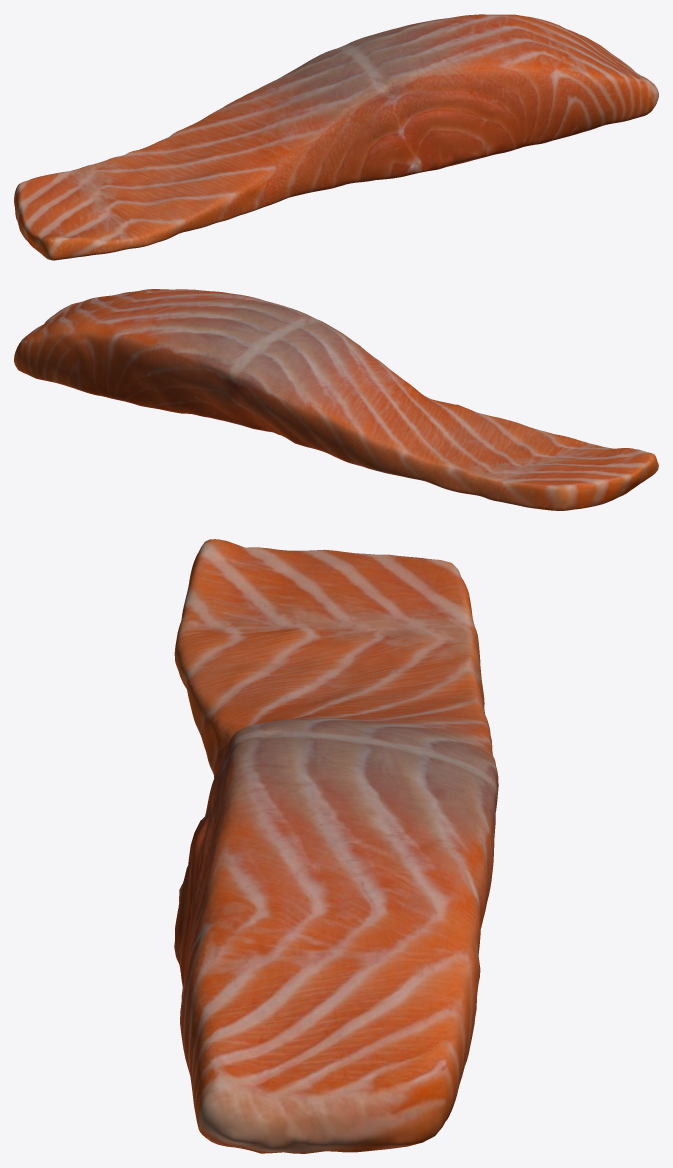
File: Salmon-Steak-1KTEX-16.gltf
3 views of the same model, one above another, from view 1: azimuth 30°, elevation 25°; view 2: azimuth 150°, elevation 25°; view 3: azimuth 270°, elevation 25° (orthographic). The views are drawn at different scales.
Parts seen in each view (by area): view 1: Salmon-Steak-2; view 2: Salmon-Steak-2; view 3: Salmon-Steak-2.
Part boxes in pixels (x1,y1,x2,y2): Salmon-Steak-2: [14, 14, 658, 260]; Salmon-Steak-2: [14, 289, 658, 510]; Salmon-Steak-2: [174, 539, 498, 1153].
Size of the model in its own units: 25.51 by 3.9 by 5.98.
Materials: 1 (1 with a texture image).
